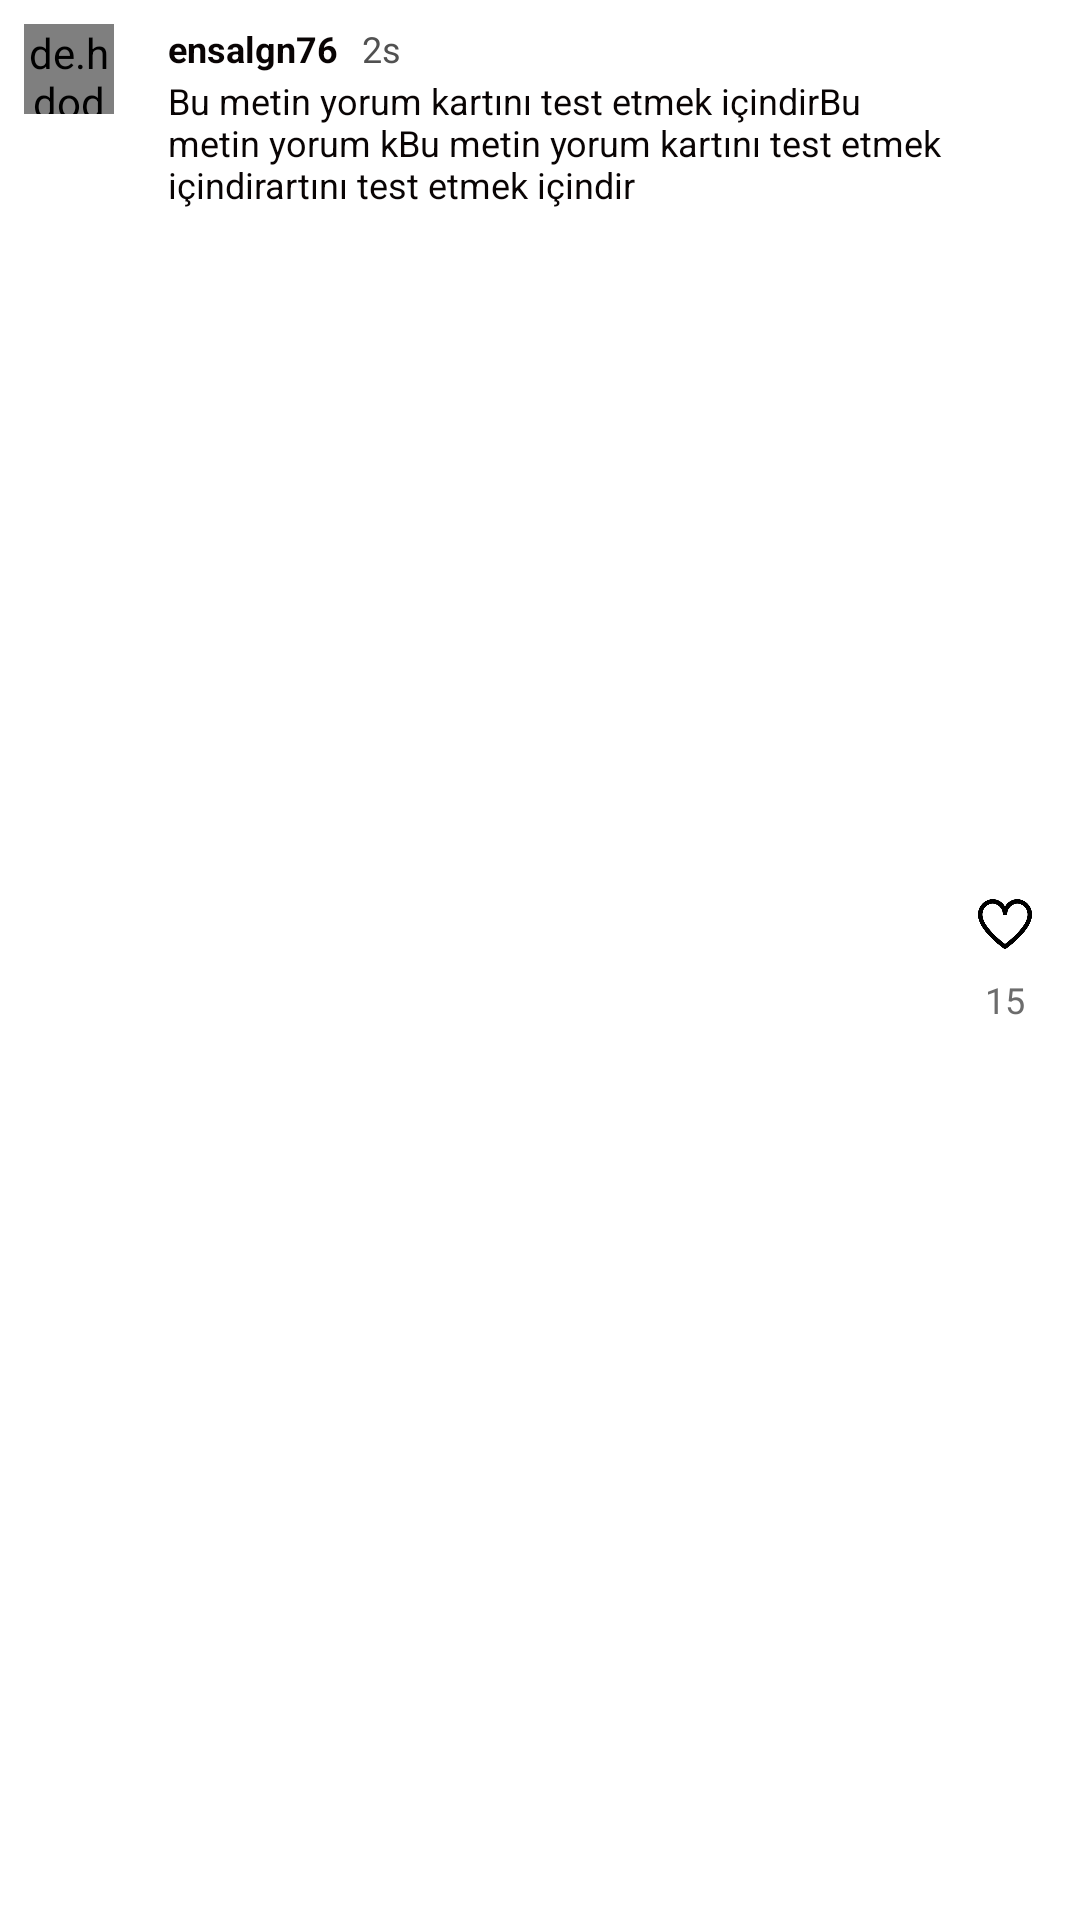

Icon click points for this 1080*1920 phone screenshot, format (x=x, y=y):
heart: (x=1005, y=924)
